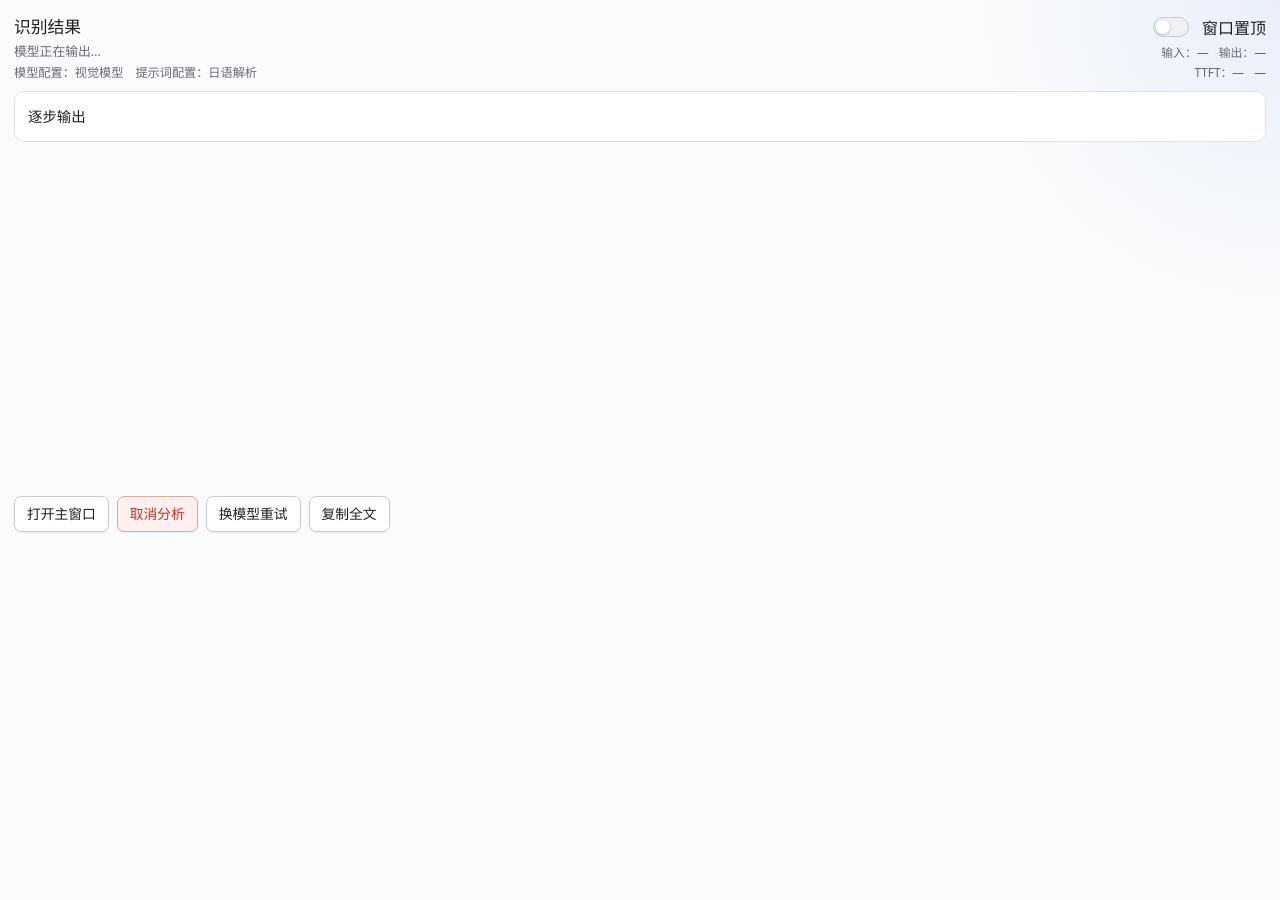
Test: Result › keeps native synchronization failures visible and recoverable
This screenshot has width=1280, height=900.
What coordinates should you click on to do the following:
click the button "换模型重试"
I would click on:
 (253, 514)
Its box is x1=206 y1=496 x2=301 y2=532.
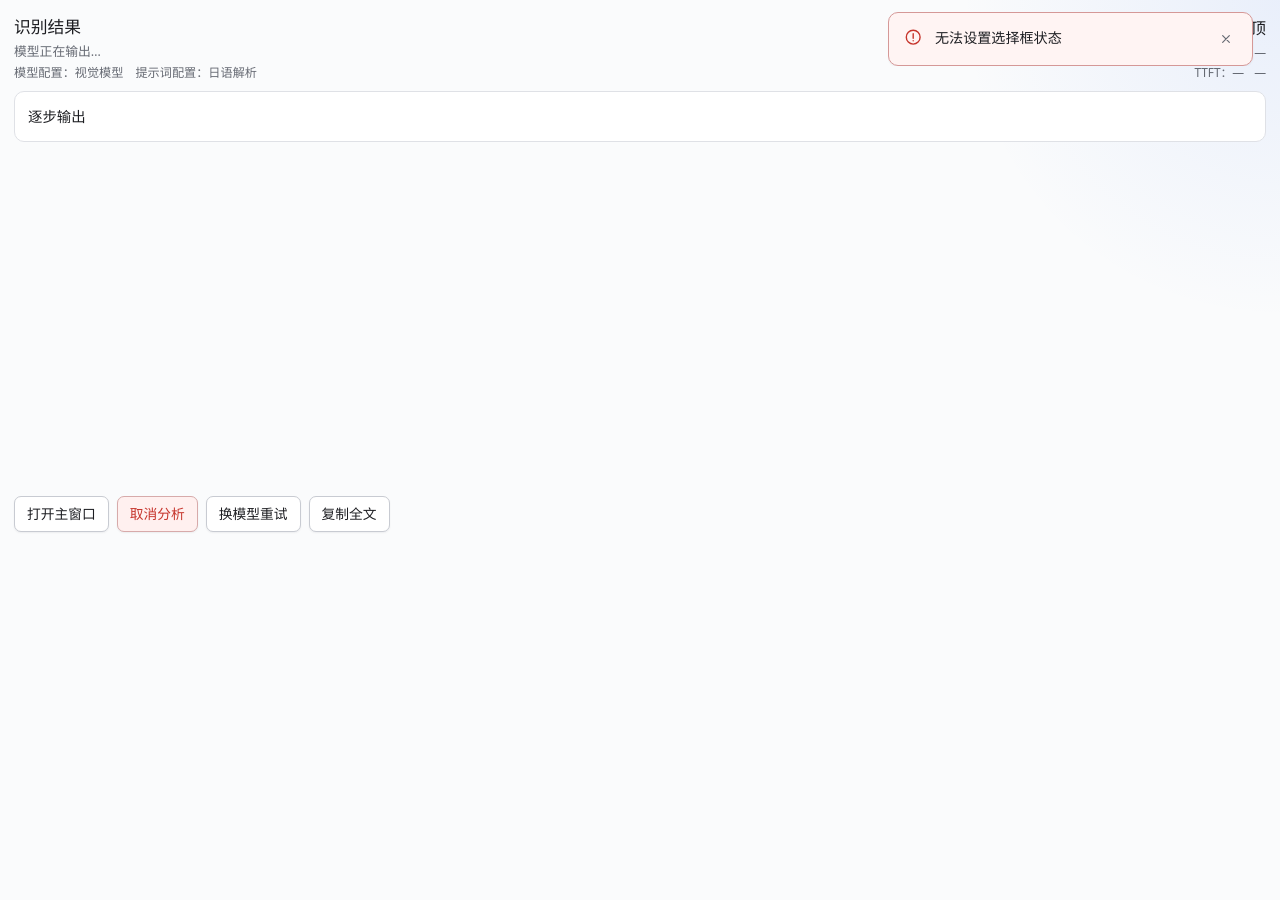
Expected: the message reads "无法设置选择框状态", x1=935 y1=28 x2=1062 y2=47
What coordinates should you click on to do the following:
click the button "换模型重试"
I would click on:
 (253, 514)
Its box is x1=206 y1=496 x2=301 y2=532.
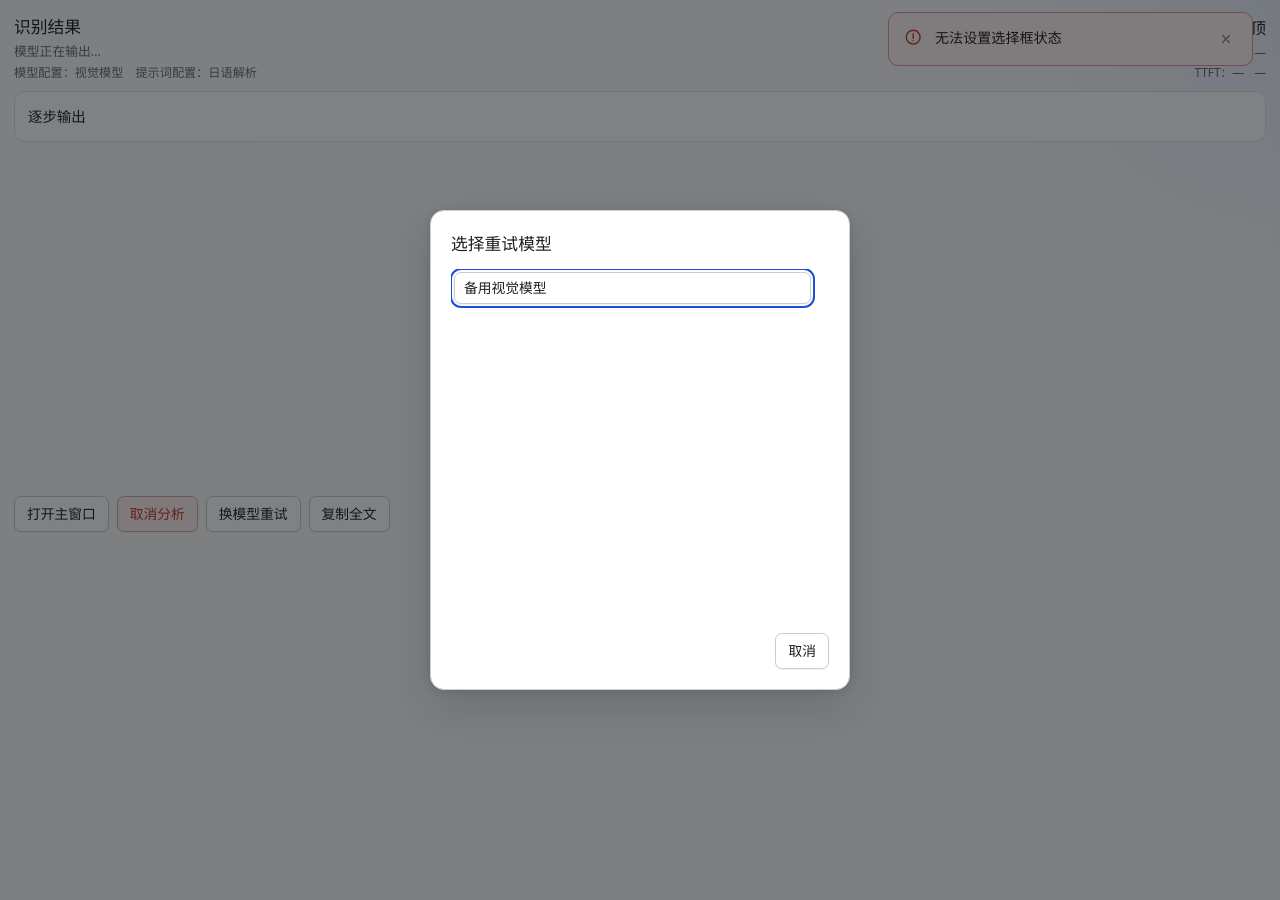
Expected: the button "备用视觉模型" is shown, x1=454 y1=272 x2=811 y2=304
What coordinates should you click on to do the following:
click the button "取消"
I would click on:
 (802, 651)
Its box is x1=776 y1=633 x2=829 y2=669.
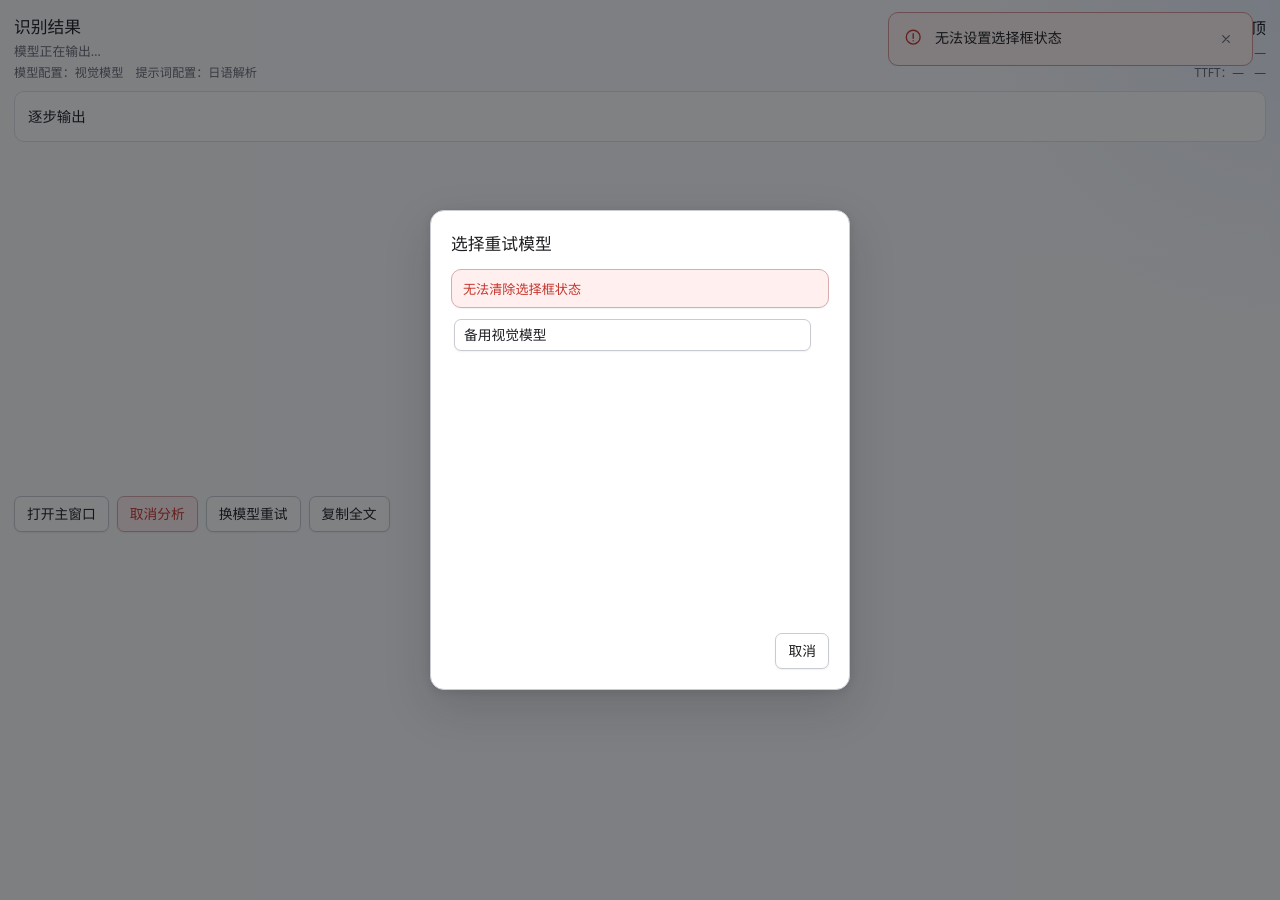
Expected: the dialog is shown, x1=430 y1=210 x2=850 y2=690
Expected: the text "无法清除选择框状态" is shown, x1=463 y1=279 x2=581 y2=298
Expected: the message reads "无法清除选择框状态", x1=463 y1=280 x2=581 y2=298
What coordinates should you click on to do the following:
click the button "取消"
I would click on:
 (802, 651)
Its box is x1=776 y1=633 x2=829 y2=669.
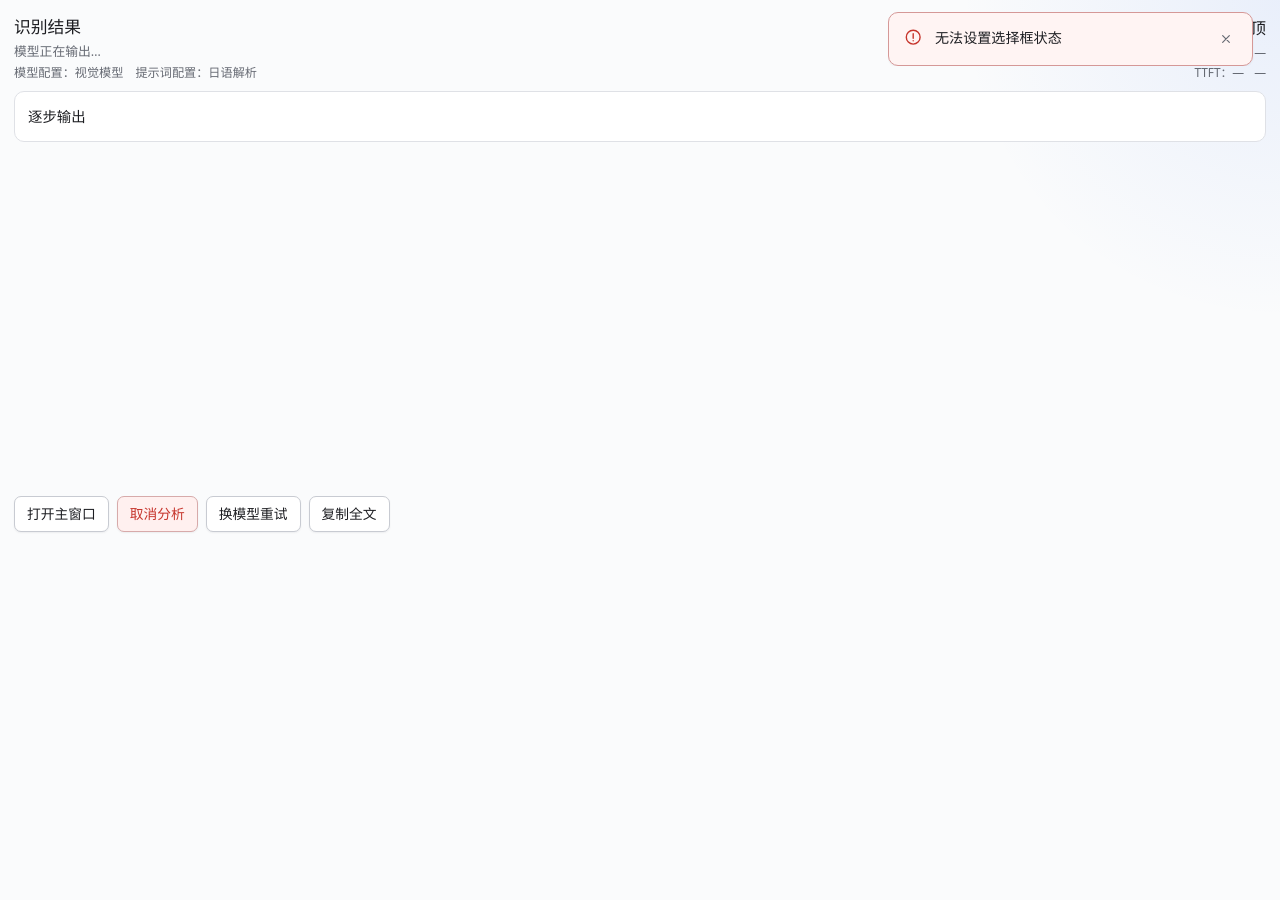
Expected: the dialog is gone
